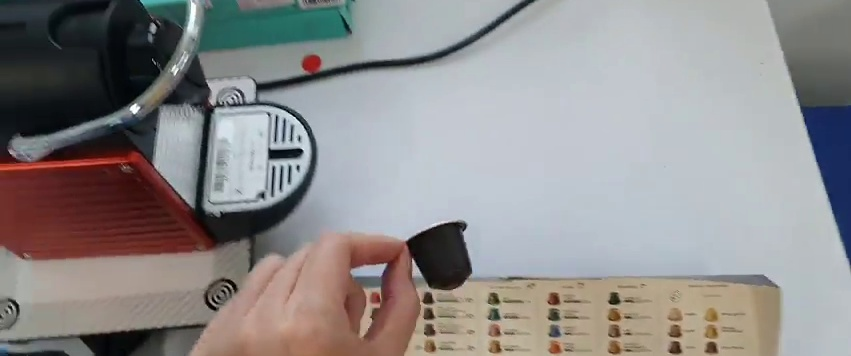capsule_4: (403, 218, 474, 295)
